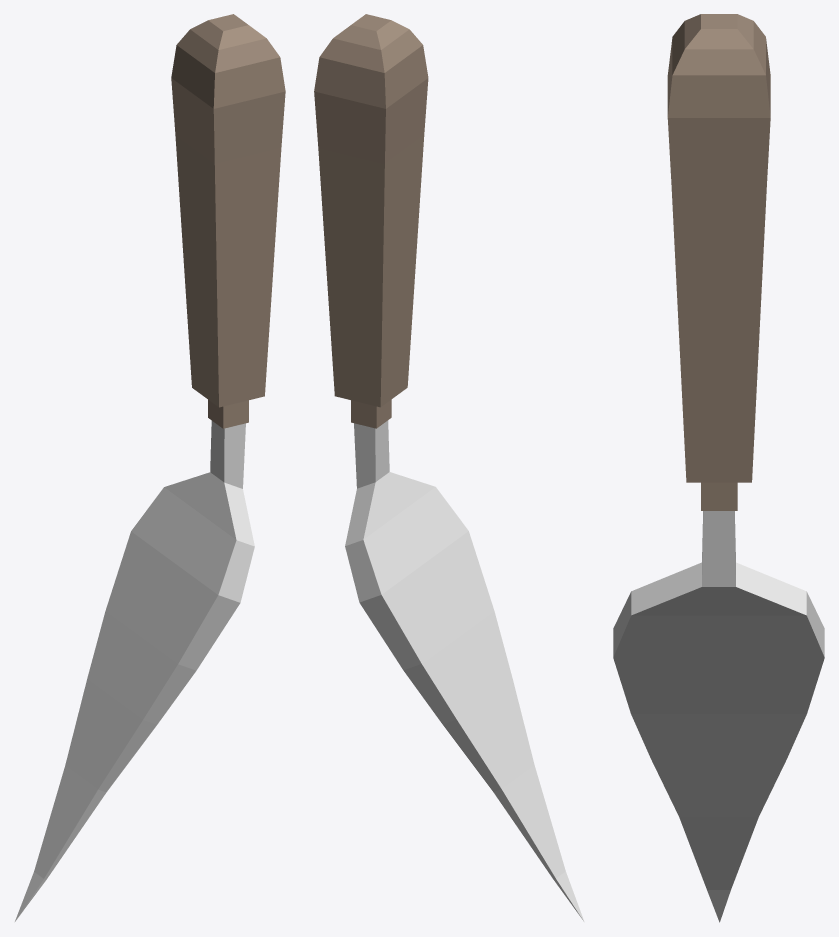
Rendered from Palette_Knife.fbx.
The picture shows the model from 3 angles, left to right: view 1: azimuth 30°, elevation 25°; view 2: azimuth 150°, elevation 25°; view 3: azimuth 270°, elevation 25°; orthographic projection. The views are drawn at different scales.
Parts seen in each view (by area): view 1: Cube, Cube.001; view 2: Cube, Cube.001; view 3: Cube, Cube.001.
Boxes of the visible parts, x1,y1,x2,y2 form: Cube: (15,421,254,921); Cube.001: (171,14,285,428); Cube: (345,420,584,922); Cube.001: (314,14,428,428); Cube: (613,511,824,922); Cube.001: (667,14,770,510).
Size of the model in its own units: 37.17 by 121 by 22.49.
